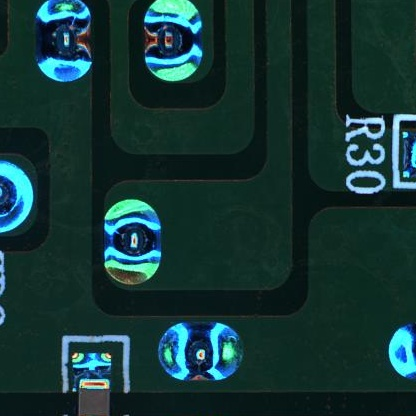spot: (155, 317, 246, 384), (101, 198, 163, 288), (33, 1, 94, 88), (144, 1, 206, 84), (1, 159, 35, 235)
